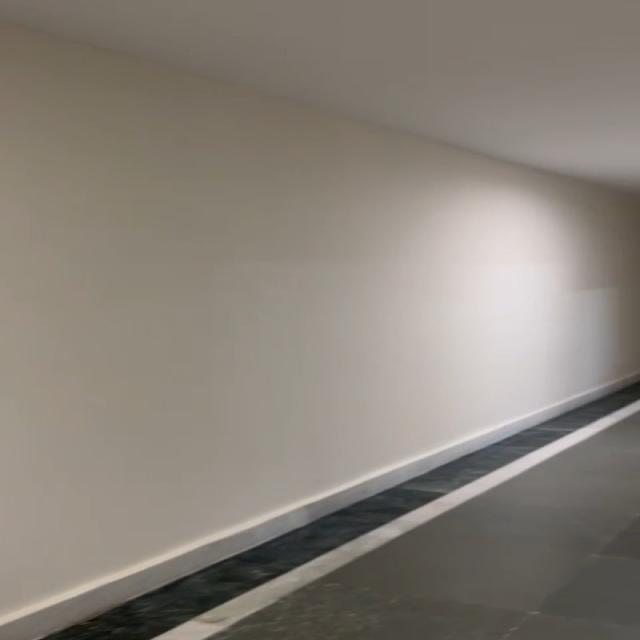floor: (304, 492, 530, 640), (539, 421, 640, 640)
wall: (0, 5, 640, 416)
